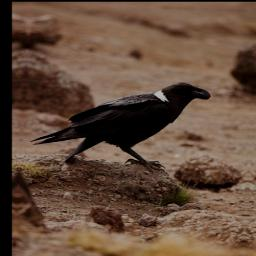Crow: (28, 73, 214, 180)
